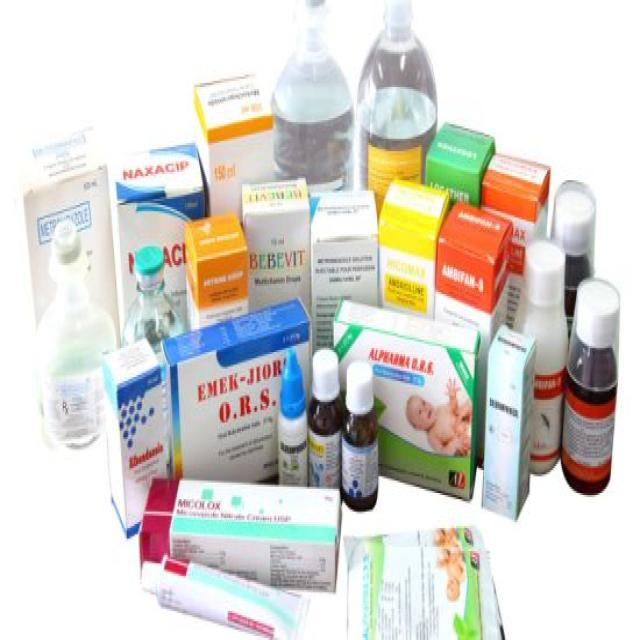B3: (558, 263, 622, 507), (339, 354, 379, 518), (304, 342, 343, 503), (272, 342, 310, 484)
